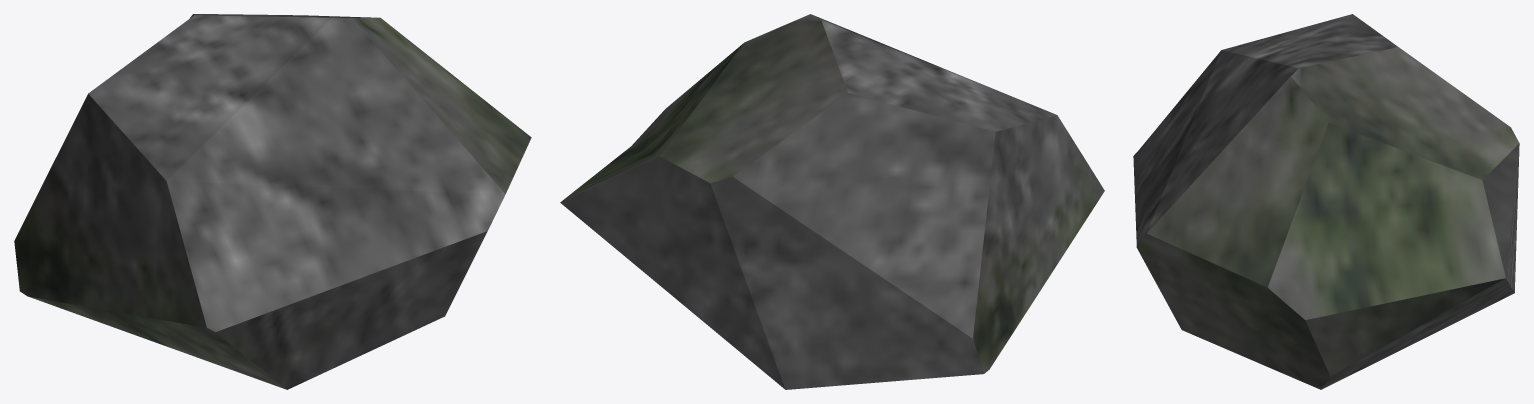
Rendered from med rock2.obj.
The picture shows the model from 3 angles, left to right: view 1: azimuth 30°, elevation 25°; view 2: azimuth 150°, elevation 25°; view 3: azimuth 270°, elevation 25°; orthographic projection. The views are drawn at different scales.
Visible parts, largest first — view 1: mediun_rock_2; view 2: mediun_rock_2; view 3: mediun_rock_2.
Part boxes in pixels (box(x1,y1,x2,y2)): mediun_rock_2: box(14, 14, 531, 389); mediun_rock_2: box(560, 14, 1104, 389); mediun_rock_2: box(1133, 14, 1519, 389).
Size of the model in its own units: 1.97 by 1.22 by 1.64.
1 material, 1 textured.
